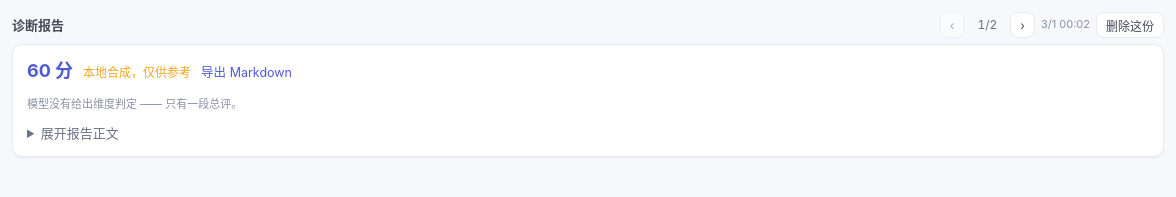
ReportHistory（jsdom） › 取消删除 → 说明收起，一次都没删
Step 1. Click the button "删除这份" → (1130, 25), box x1=1096 y1=12 x2=1164 y2=38
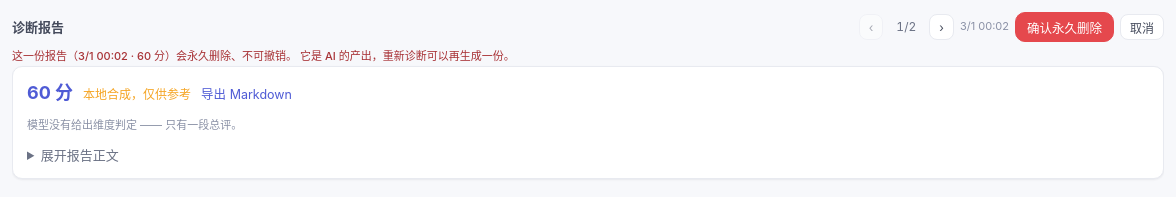
Check: the text "不可撤销" is shown, box x1=165 y1=49 x2=515 y2=63
Step 2. Click the button "取消" → (1142, 27), box x1=1120 y1=14 x2=1164 y2=40
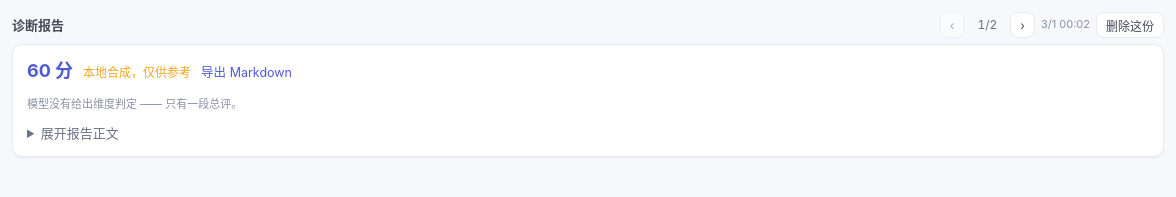
Check: the text "不可撤销" is gone
